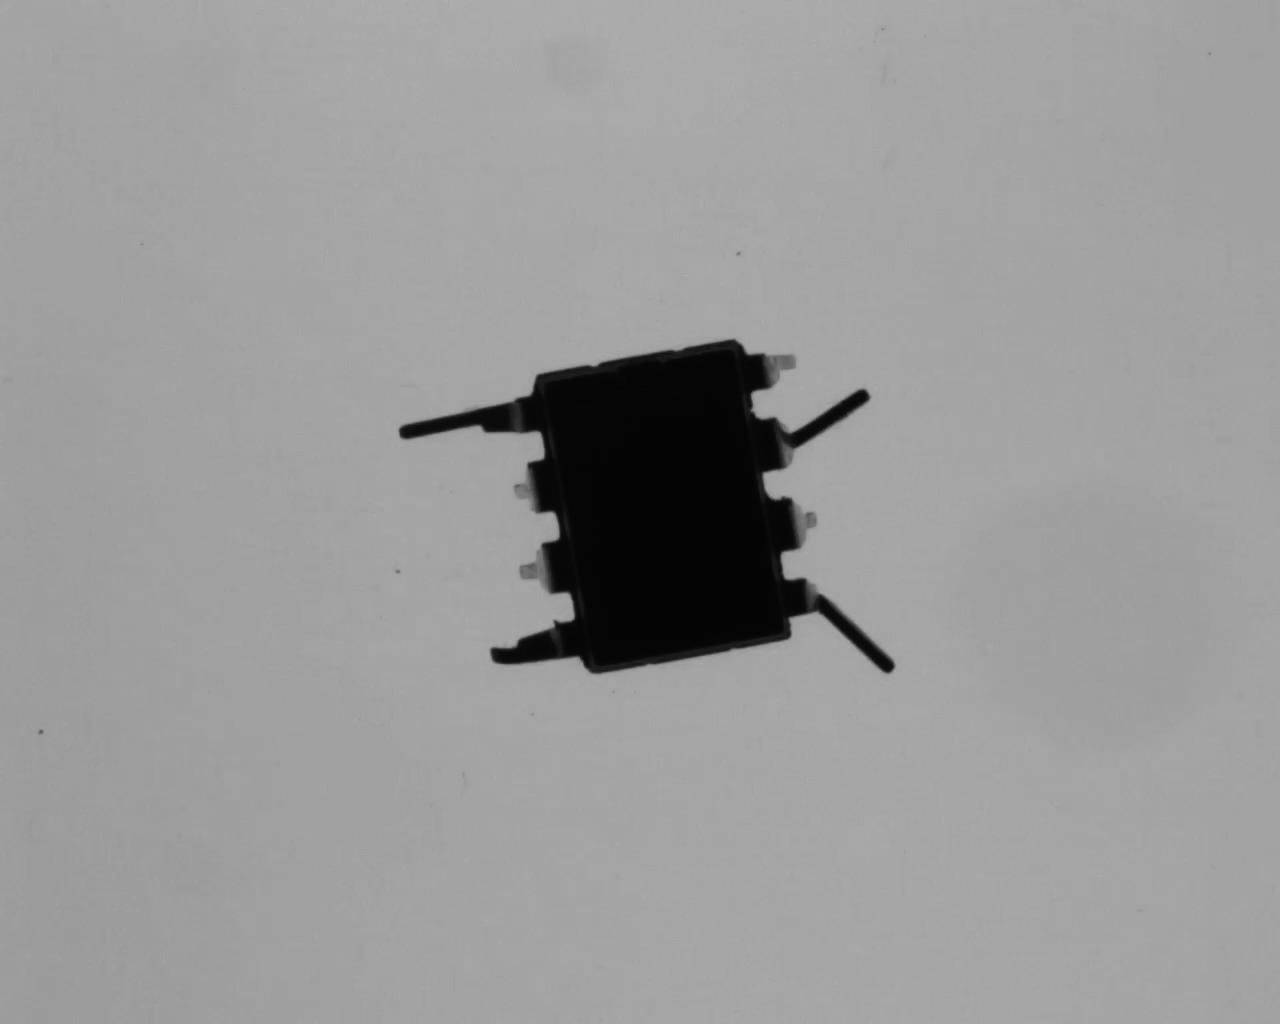Leg: (784, 568, 899, 677), (751, 381, 882, 475), (398, 386, 544, 444), (484, 610, 587, 673), (502, 532, 580, 597), (769, 490, 819, 561), (738, 347, 804, 397), (508, 452, 559, 516)
